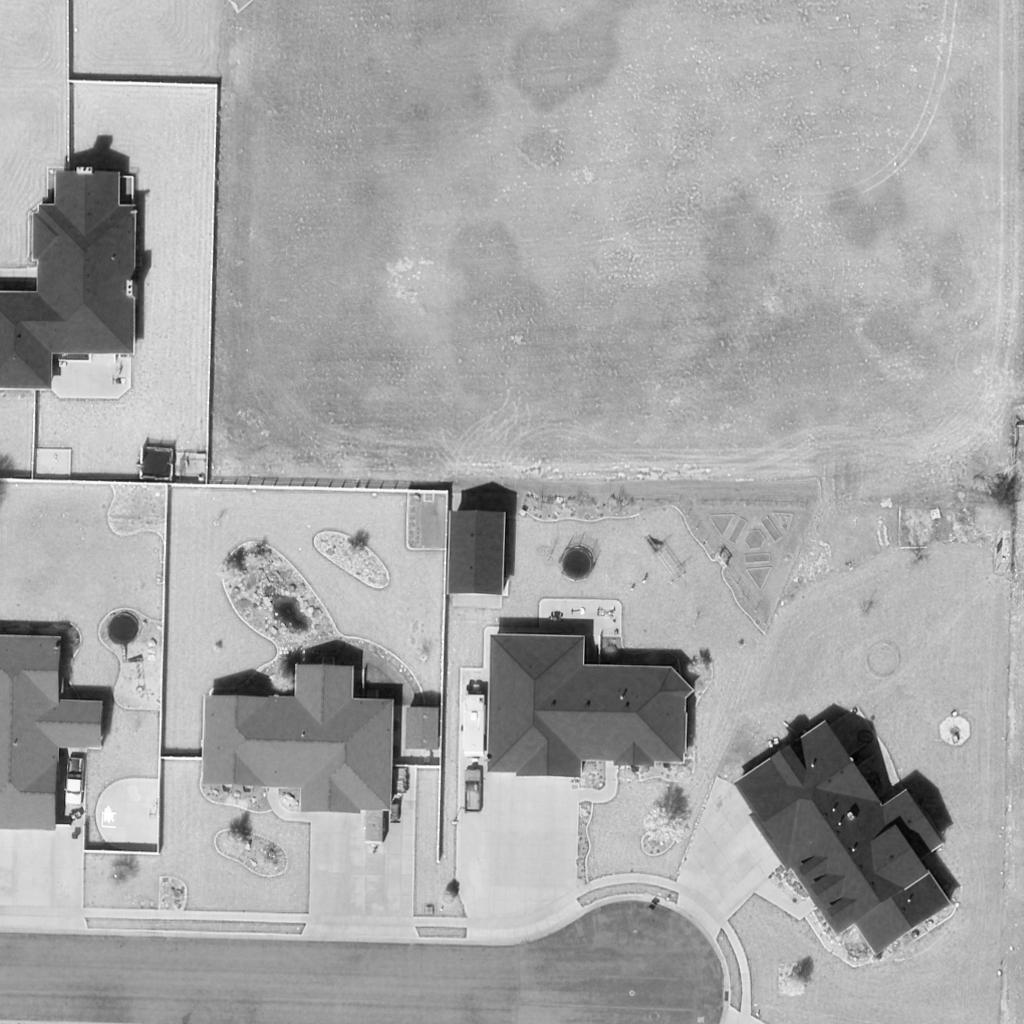vehicle: (461, 695, 487, 759), (362, 794, 388, 844), (460, 767, 488, 811), (66, 759, 84, 805)
